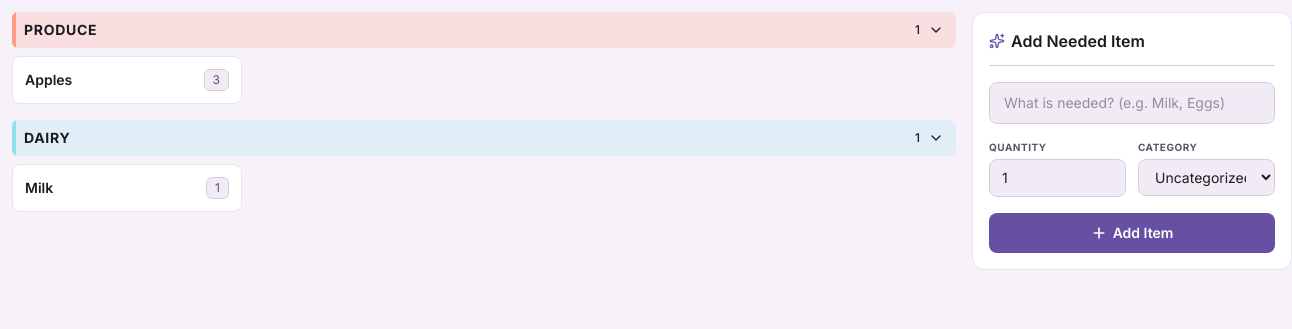
Scenario: NeedPhase Component › should expand item tile when clicked, revealing edit controls
Click the text "Apples" at coordinates (49, 80), box [25, 70, 72, 90]
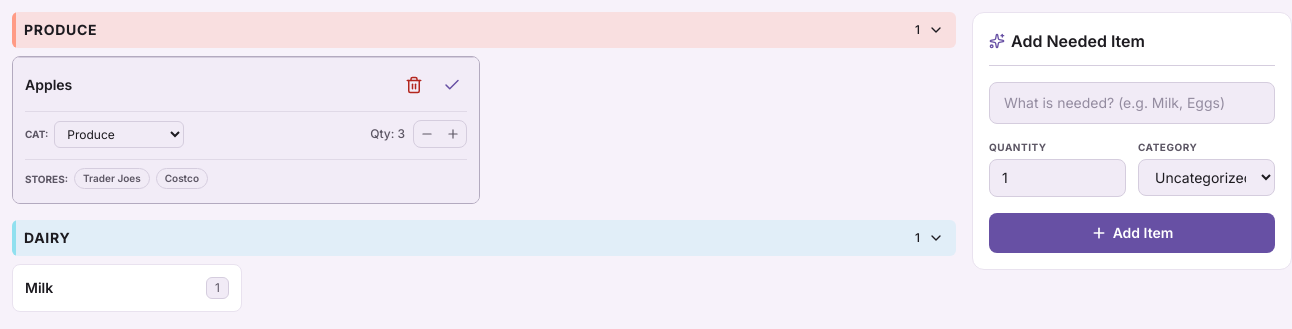
Expected: the button named "Close edit" is shown, [437, 70, 467, 100]
Expected: the button named "Delete item" is shown, [399, 70, 429, 100]
Expected: the text "Qty: 3" is shown, [370, 126, 405, 142]
